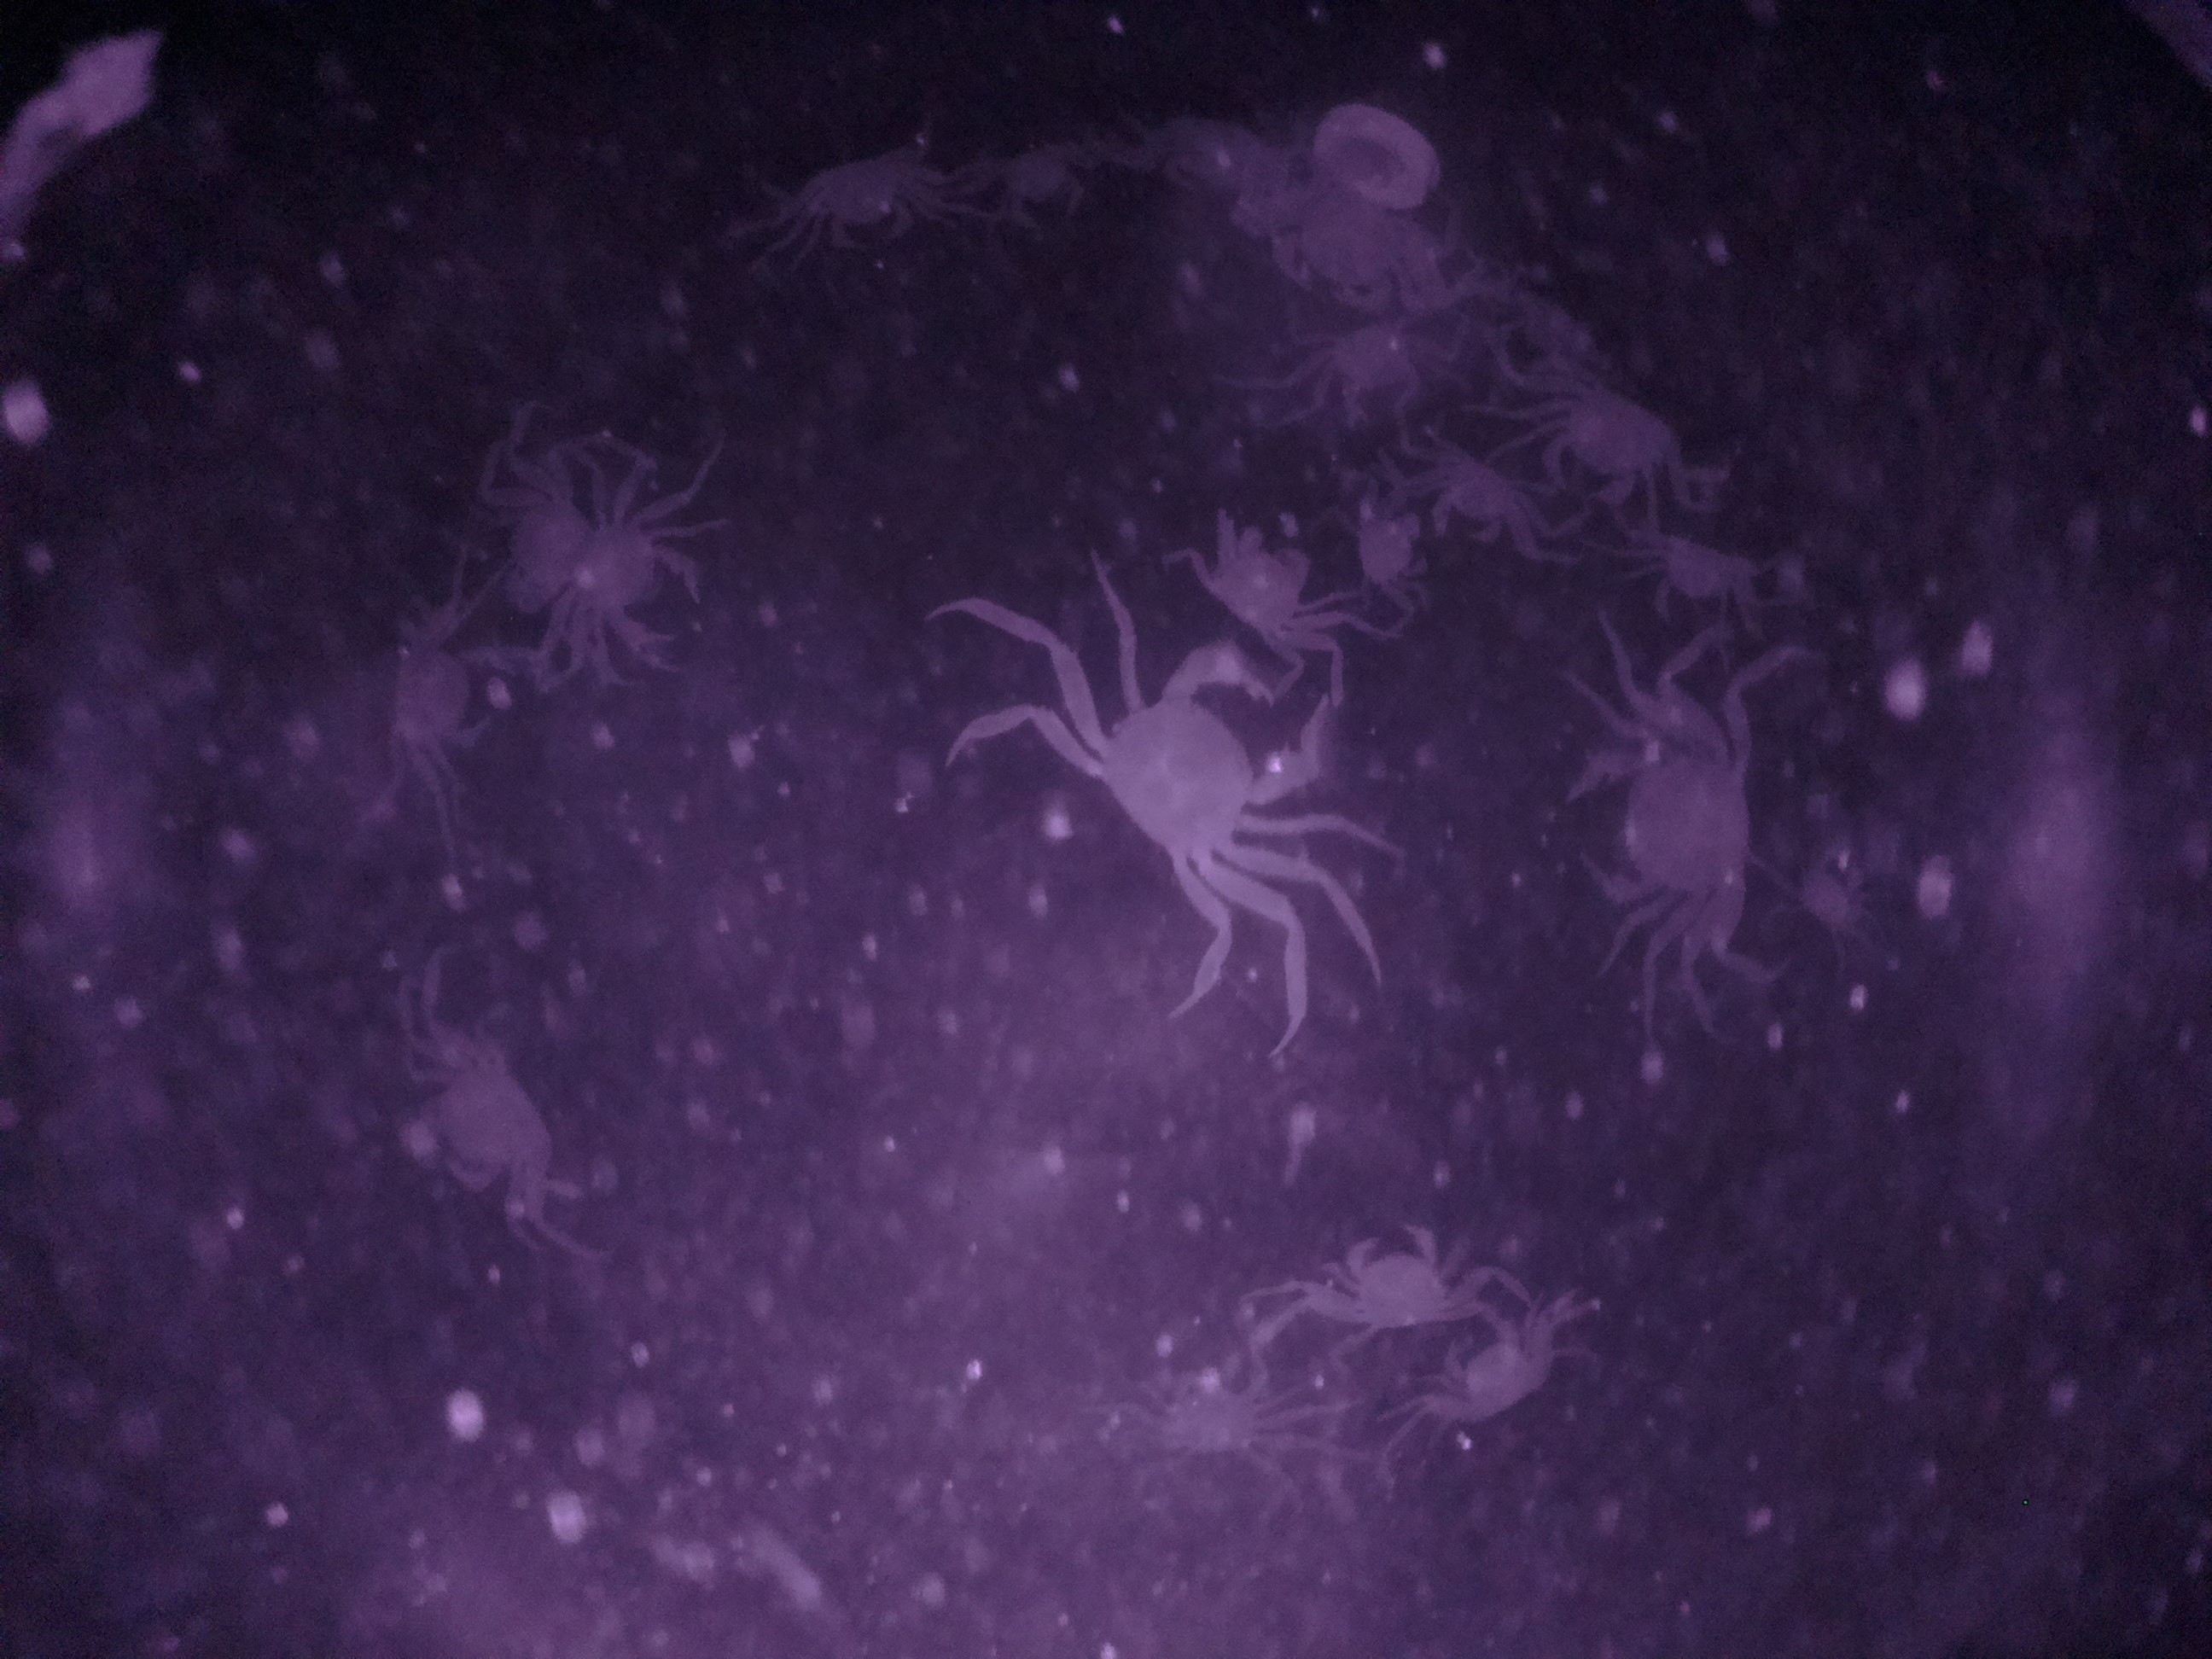Crab: (1042, 629, 1367, 948), (1554, 687, 1771, 974), (374, 993, 604, 1216), (526, 497, 723, 664), (364, 591, 519, 793), (1390, 1291, 1561, 1453), (1526, 382, 1703, 528), (1188, 504, 1346, 664), (1287, 1222, 1479, 1347), (770, 138, 948, 256), (1306, 307, 1447, 450), (1625, 519, 1778, 638), (1404, 458, 1566, 561)
